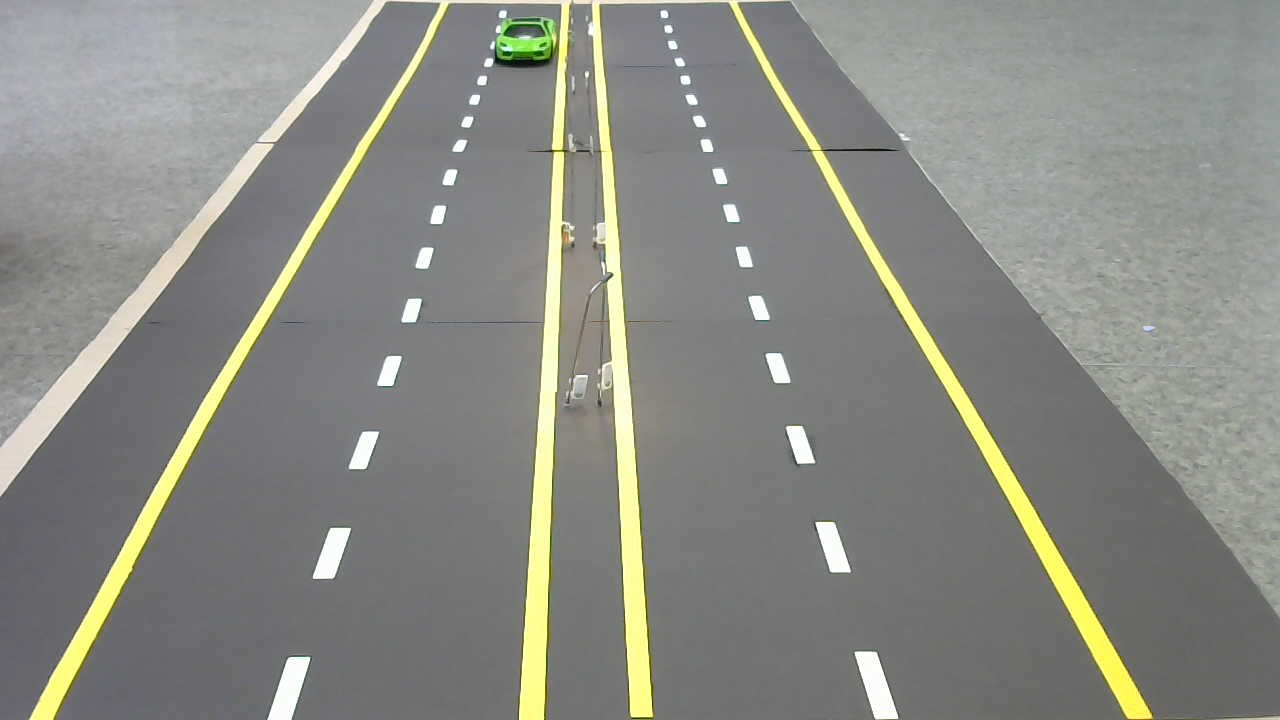front_car: (492, 16, 557, 69)
